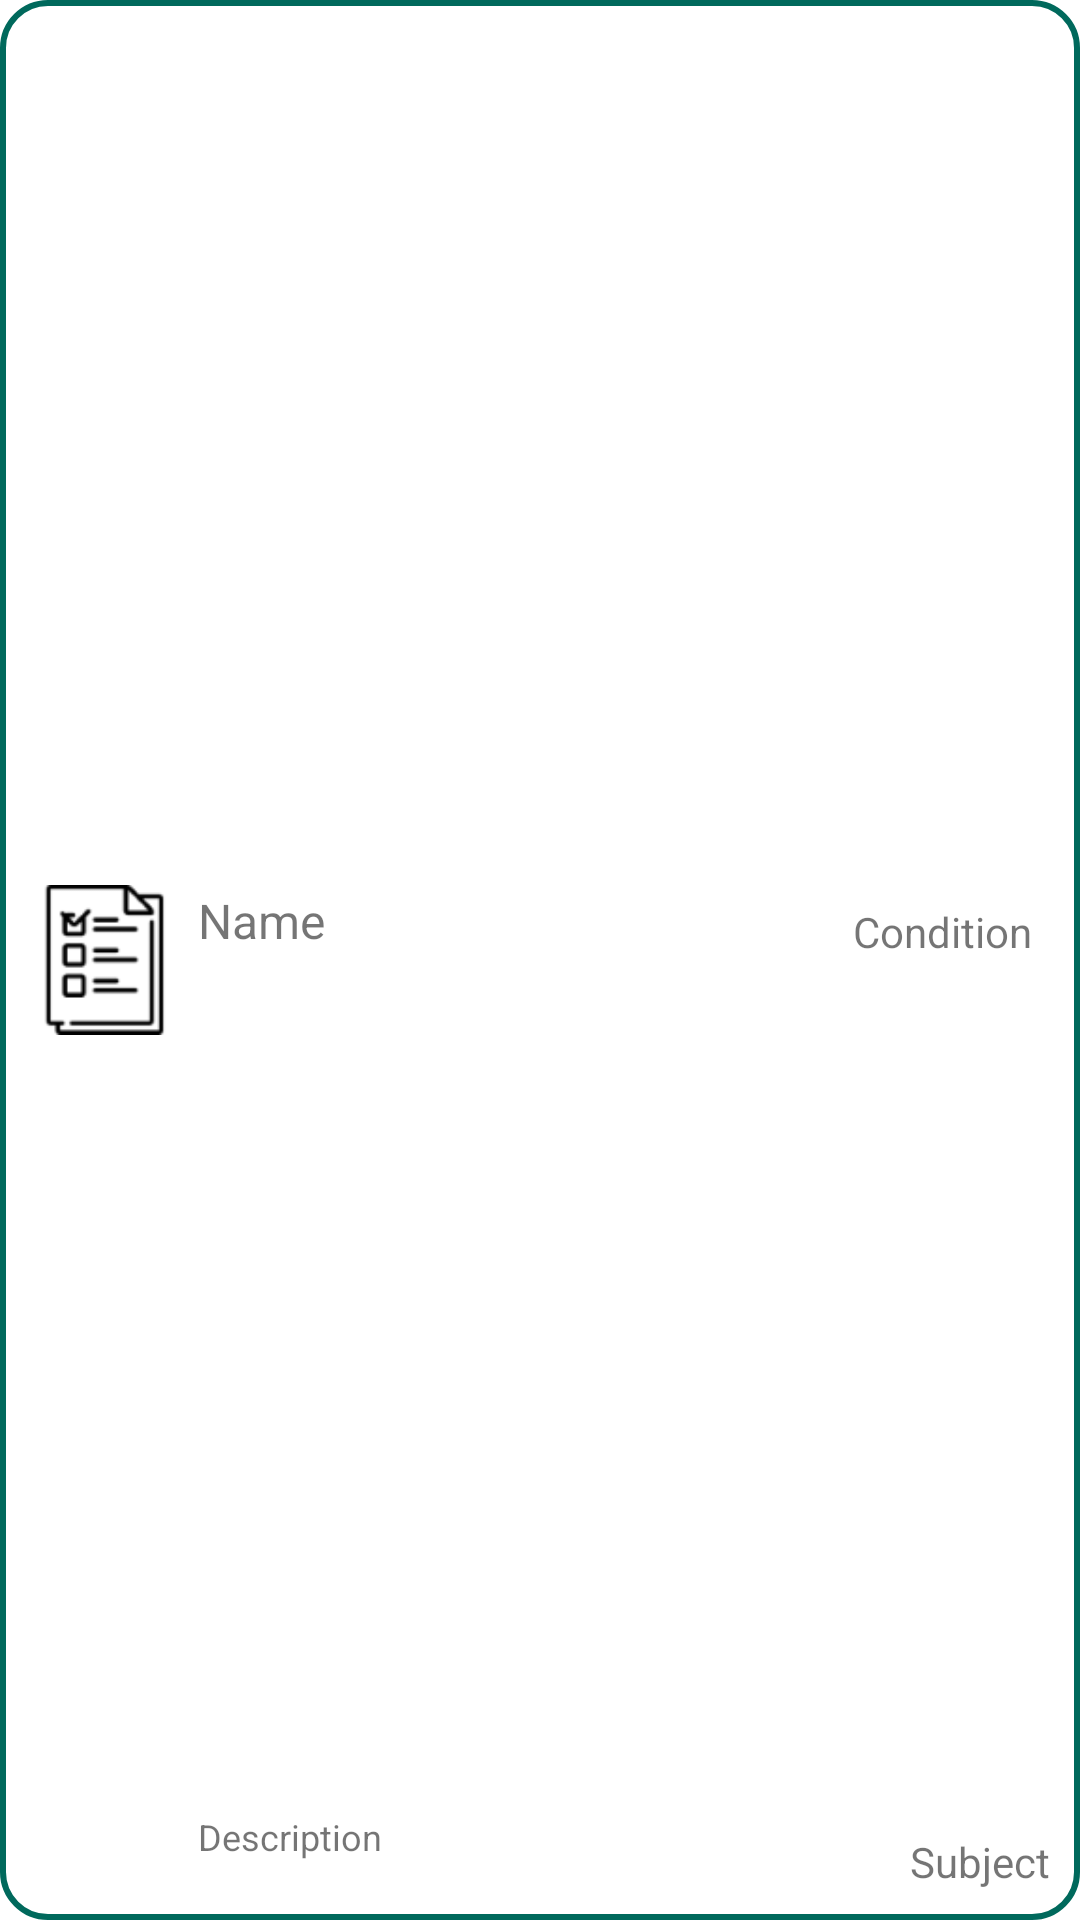

Screen size 1080w x 1920h. Icon name, then its box in pixels as (x1, y1, x2, y2):
exam: (45, 885, 164, 1035)
